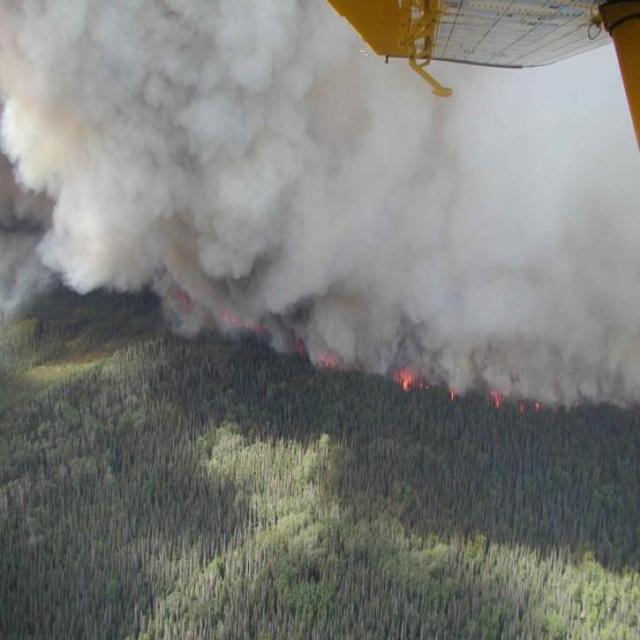Fire: (316, 309, 356, 365), (450, 387, 554, 407), (399, 369, 417, 391)
Smoke: (23, 17, 639, 257)
